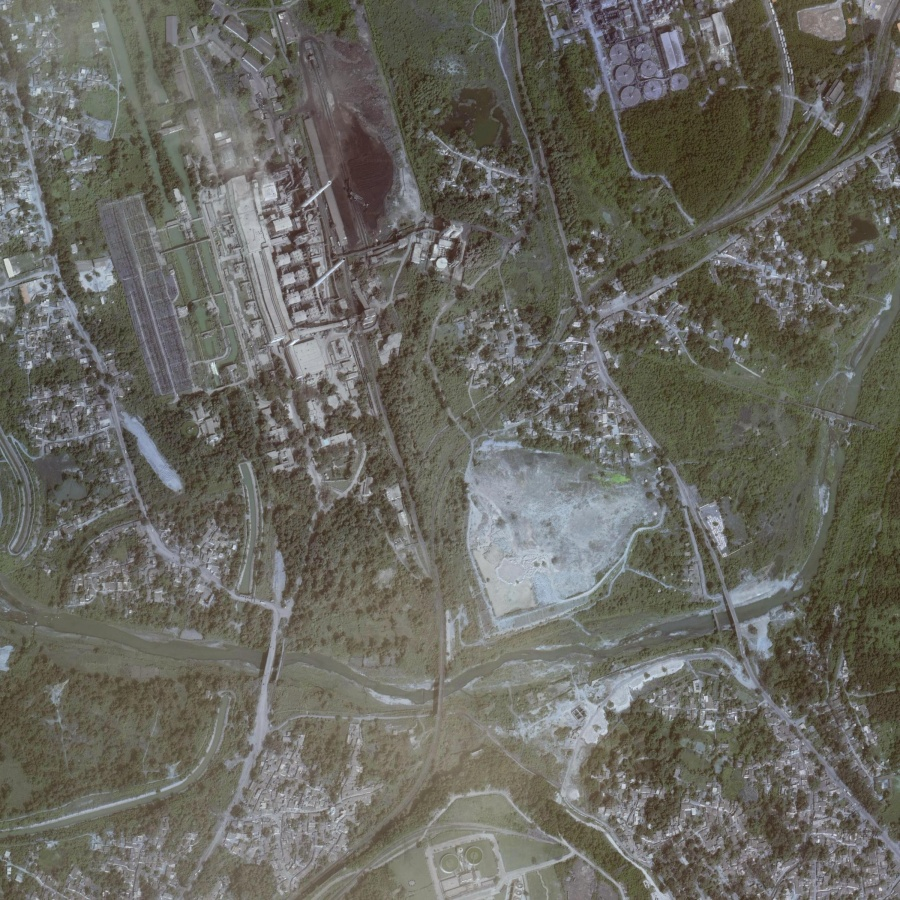PowerPlant: (207, 25, 404, 322)
